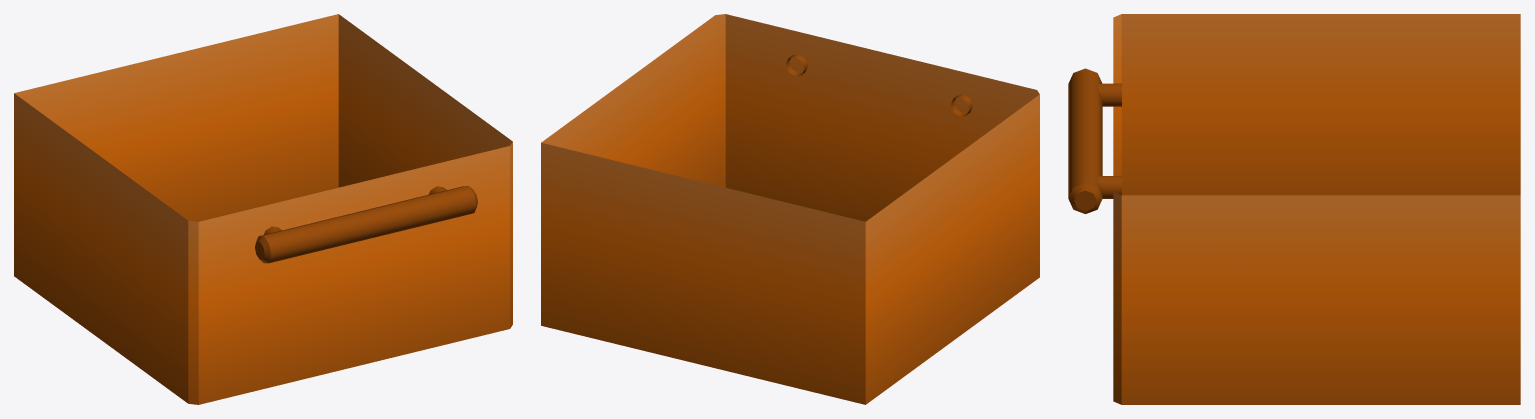
Rendered from Counter_01_v03_C03.fbx.
The picture shows the model from 3 angles, left to right: view 1: azimuth 30°, elevation 25°; view 2: azimuth 150°, elevation 25°; view 3: azimuth 270°, elevation 25°; orthographic projection. The views are drawn at different scales.
Visible parts, largest first — view 1: Counter_01_v03_C03; view 2: Counter_01_v03_C03; view 3: Counter_01_v03_C03.
Boxes of the visible parts, x1,y1,x2,y2 form: Counter_01_v03_C03: (14,14,512,404); Counter_01_v03_C03: (541,14,1039,404); Counter_01_v03_C03: (1068,14,1520,404).
Size of the model in its own units: 100 by 53.91 by 105.
